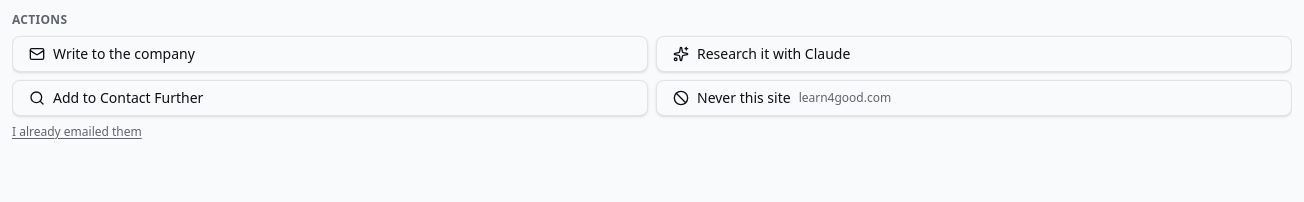
Test: Never this site › shows the server's own message when it can't be added
Click the button "Never this site learn4good.com": (744, 98) [656,80,1292,116]
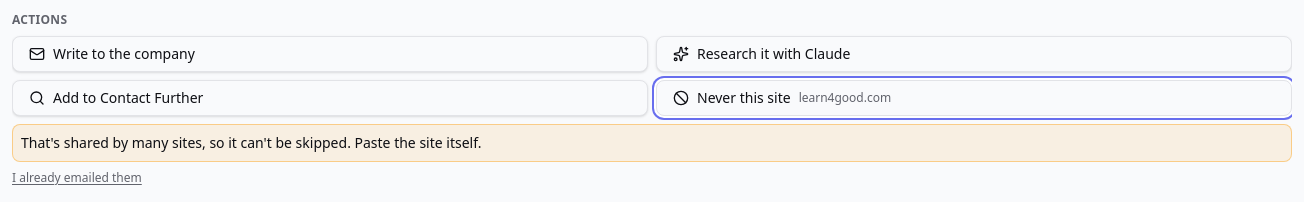
Result: the message shows "That's shared by many sites" at [21,133,482,152]
